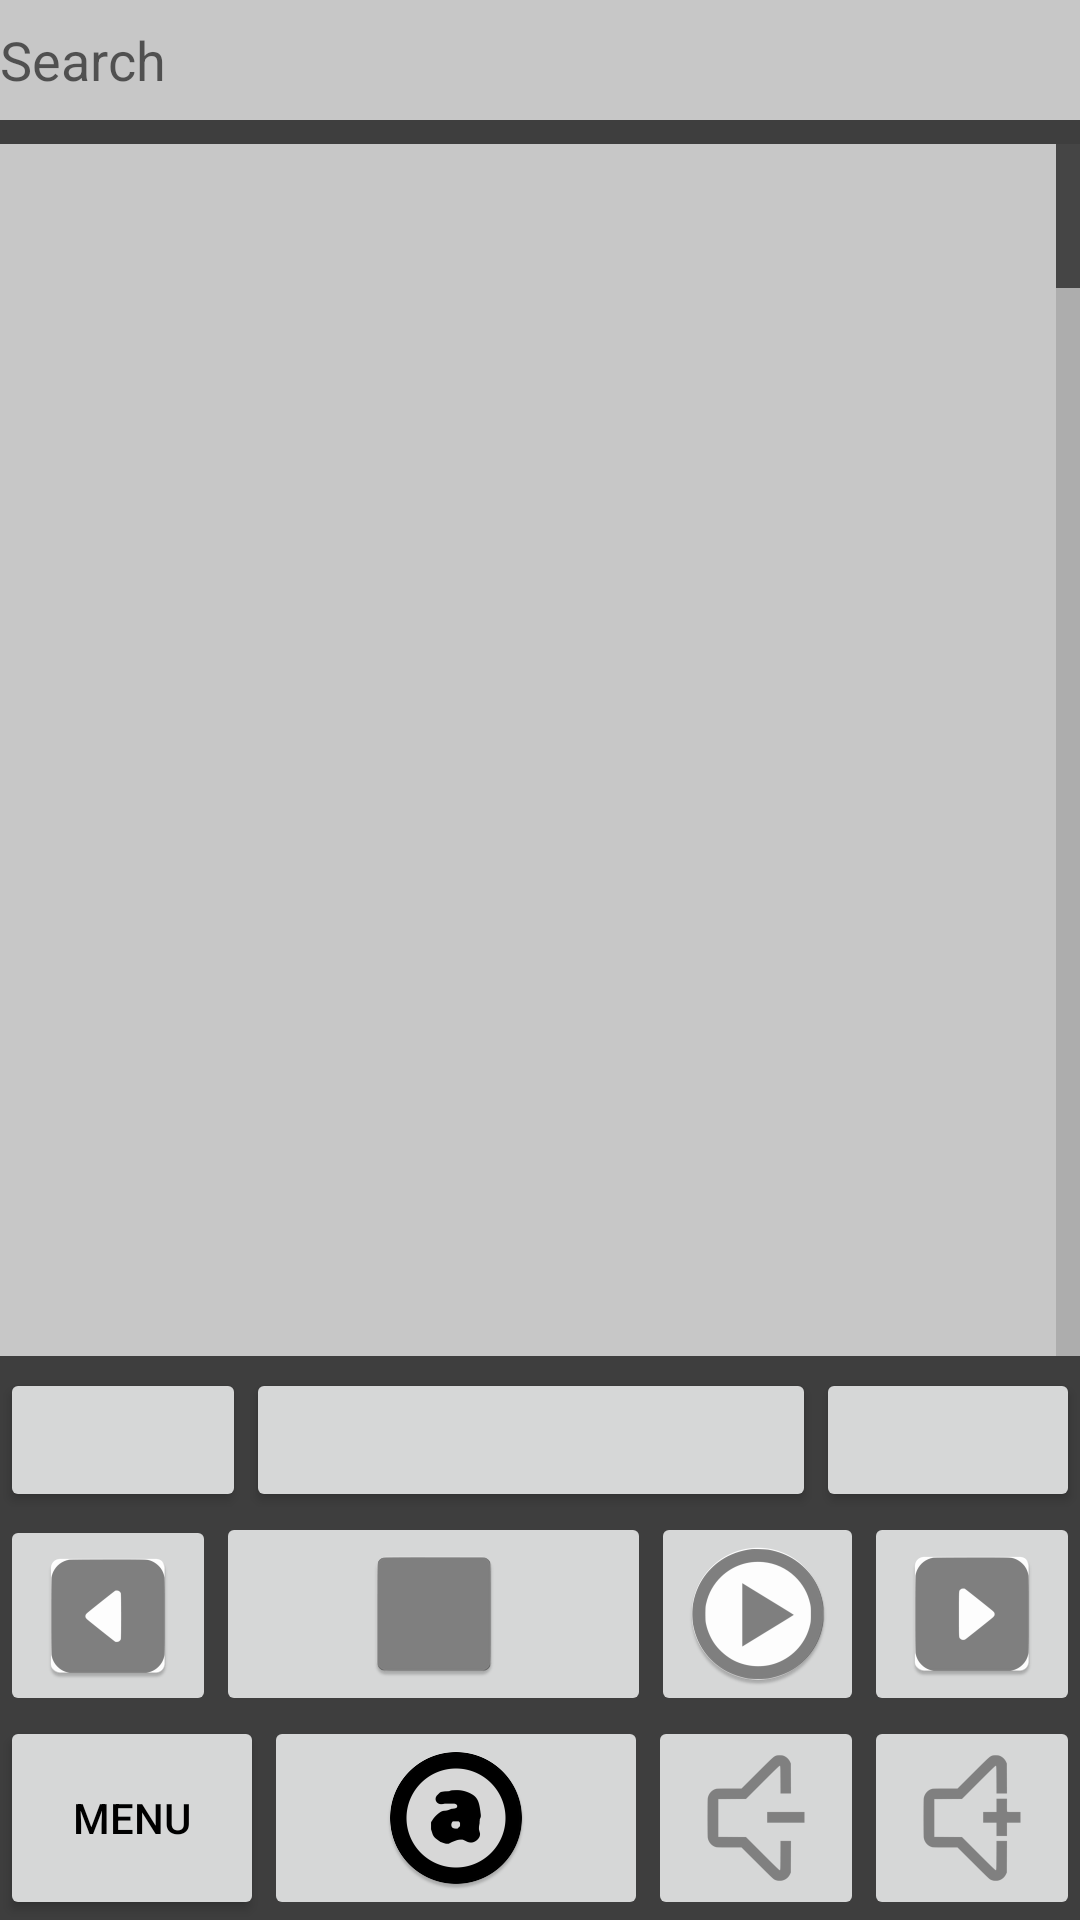

Where icons sit on this 1080x1920 app screen, as (x1, y1, x2, y2):
next: (876, 1530, 1068, 1698)
play: (663, 1530, 852, 1698)
previous: (12, 1533, 204, 1698)
volume down: (660, 1734, 852, 1902)
volume up: (876, 1734, 1068, 1902)
